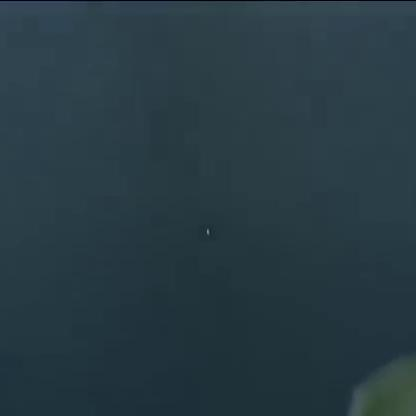golfball: (203, 227, 213, 234)
